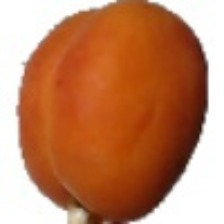apricot: (28, 33, 207, 219)
